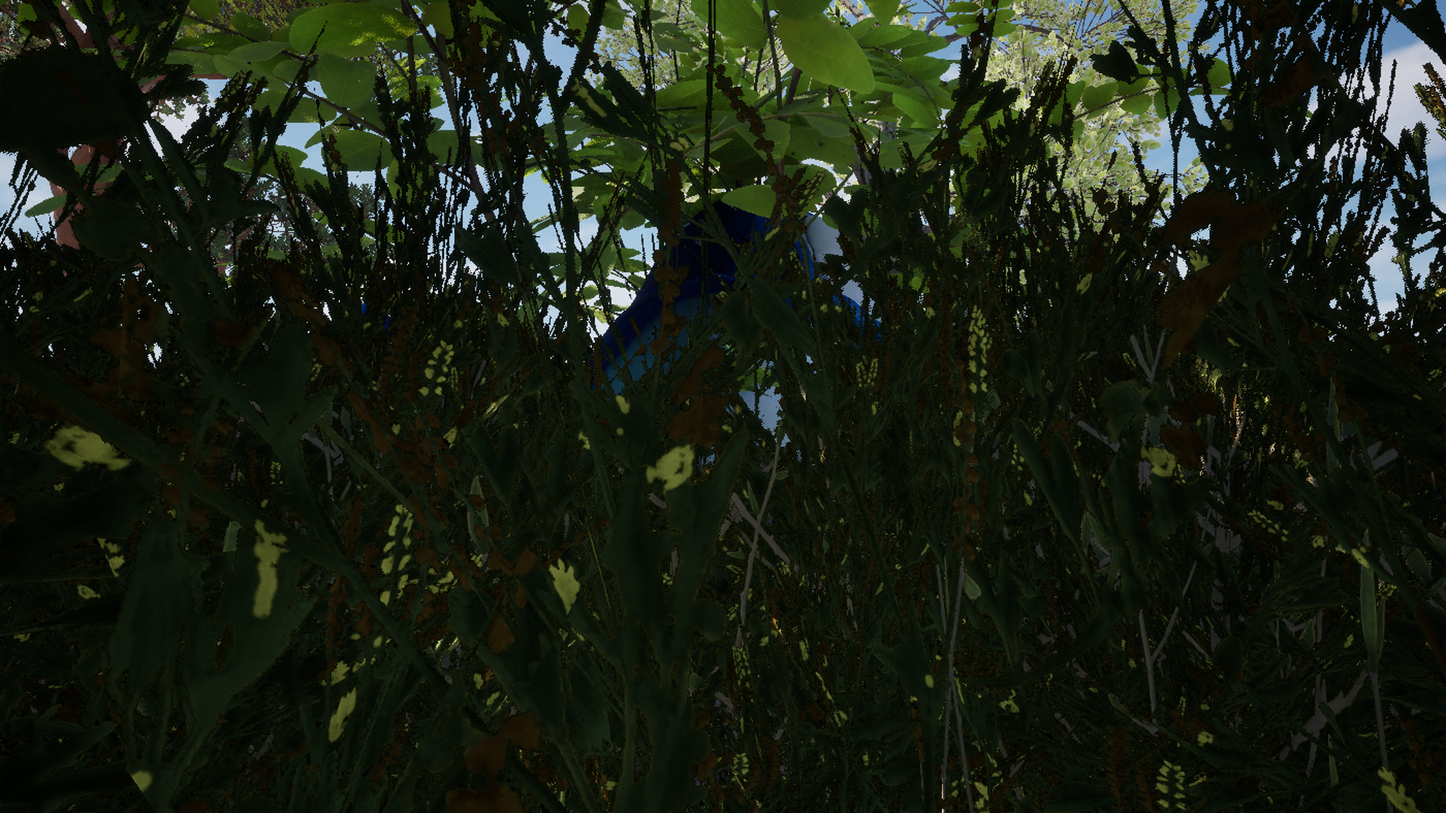Piplup: (358, 0, 925, 813)
